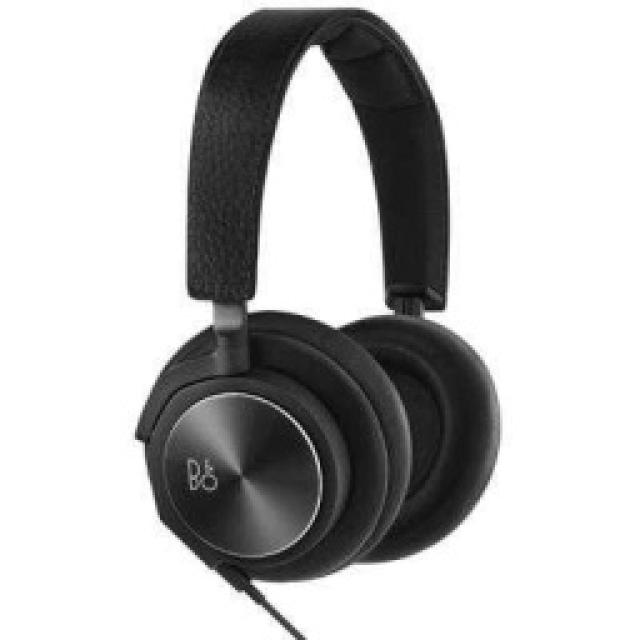headphones: (132, 2, 502, 582)
